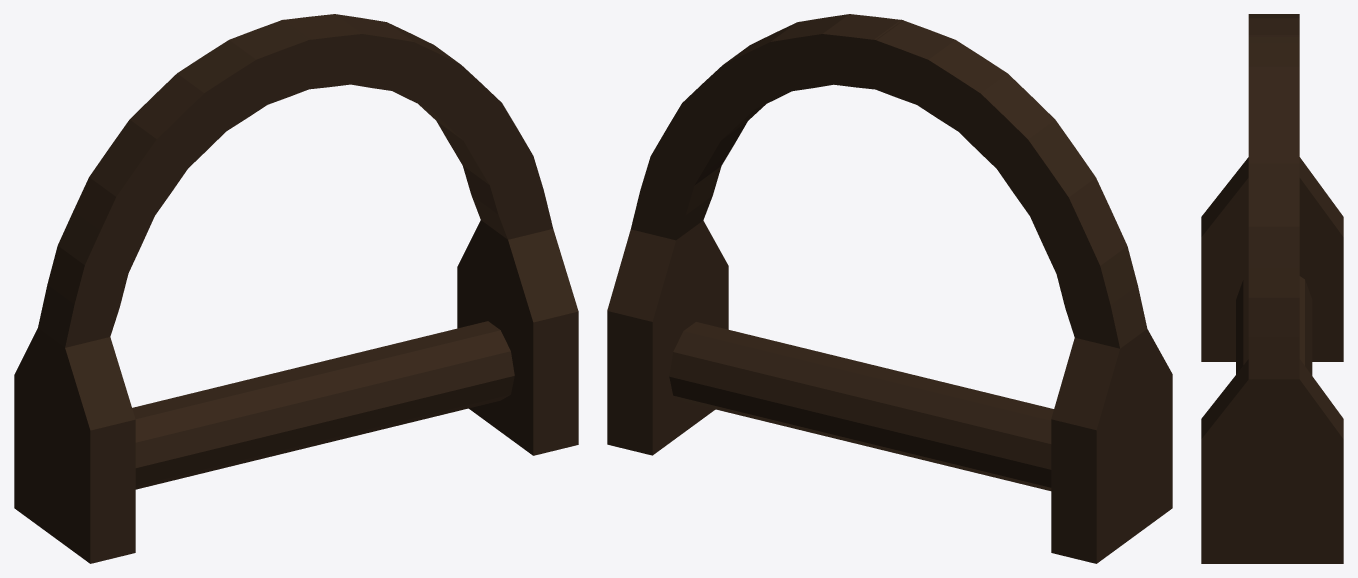
The model's file is upper_lock.fbx.
3 views of the same model, side by side, from view 1: azimuth 30°, elevation 25°; view 2: azimuth 150°, elevation 25°; view 3: azimuth 270°, elevation 25° (orthographic). The views are drawn at different scales.
Visible parts, largest first — view 1: BezierCurve; view 2: BezierCurve; view 3: BezierCurve.
Part boxes in pixels (x1=…): BezierCurve: x1=14, y1=14, x2=578, y2=563; BezierCurve: x1=607, y1=14, x2=1172, y2=563; BezierCurve: x1=1201, y1=14, x2=1343, y2=563.
Size of the model in its own units: 132 by 115 by 35.49.
